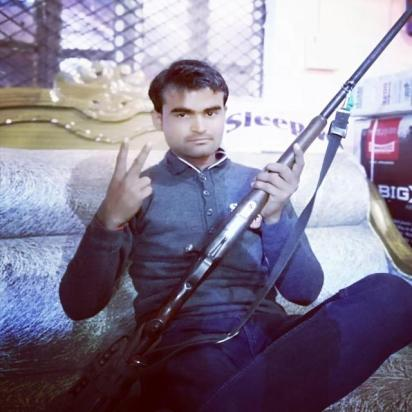Gun: (66, 7, 411, 412)
